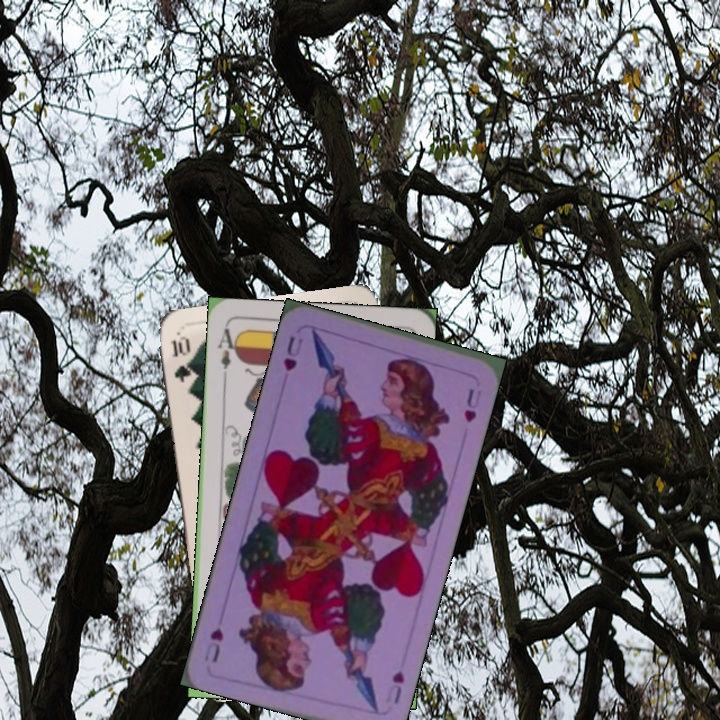EA: (213, 324, 241, 382)
G10: (167, 332, 194, 385)
HU: (279, 332, 306, 374), (381, 667, 407, 707)
